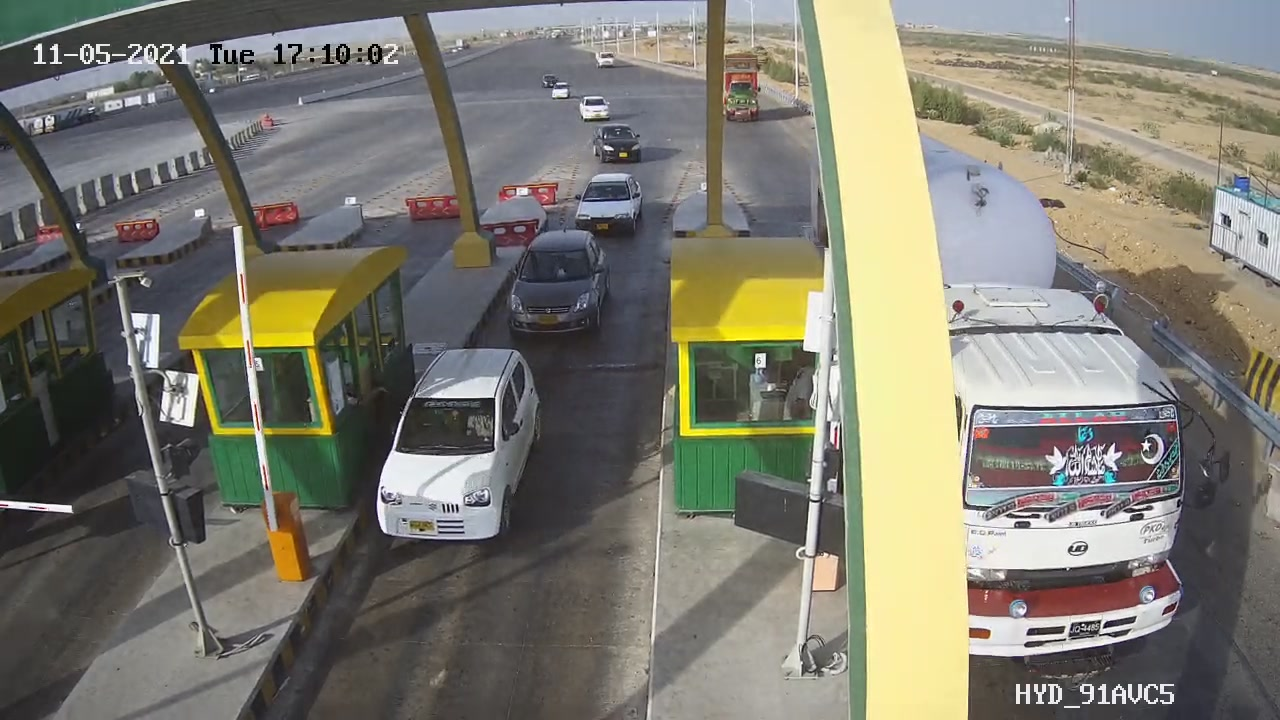F1: (356, 335, 560, 555), (485, 216, 630, 352), (556, 162, 657, 256)
